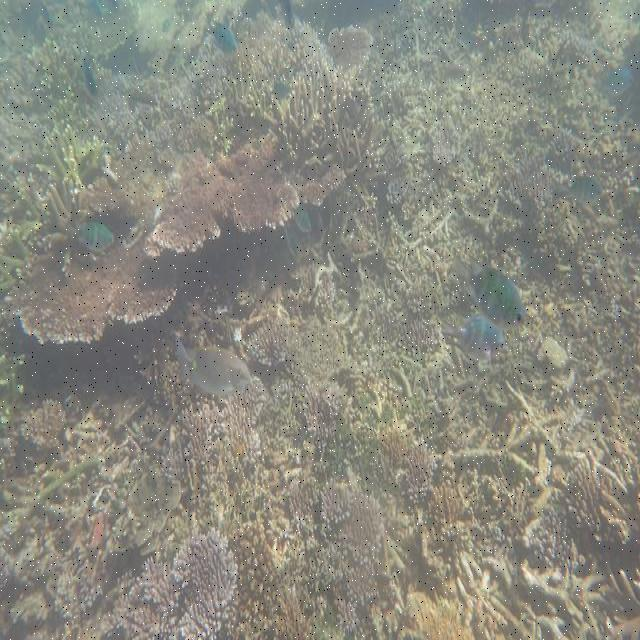fish: (451, 254, 526, 329), (176, 340, 252, 395), (441, 317, 504, 354), (204, 17, 237, 53), (76, 222, 113, 250)
reefs: (146, 128, 346, 256), (6, 229, 176, 345), (101, 530, 239, 637), (271, 59, 376, 173)
